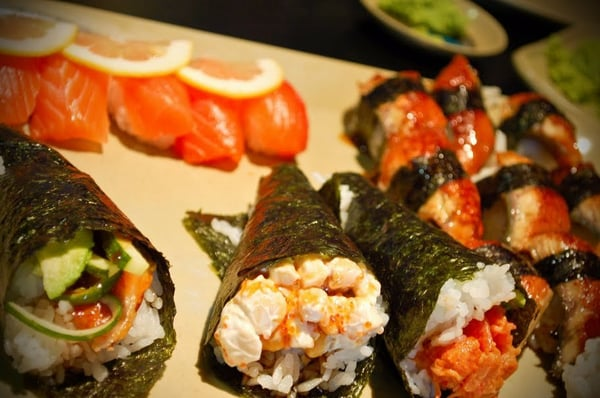soup: (0, 125, 177, 394)
sushi: (359, 0, 510, 59)
